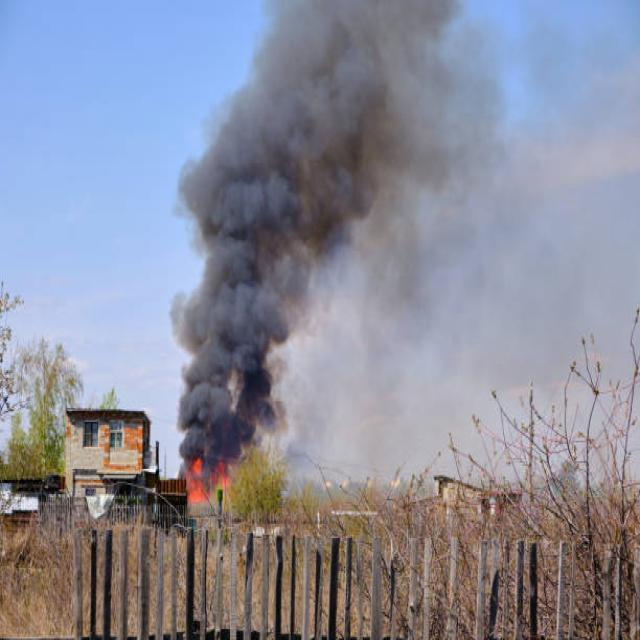Fire: (190, 458, 228, 500)
Smoke: (268, 12, 473, 168), (202, 138, 340, 281), (183, 278, 284, 465)
